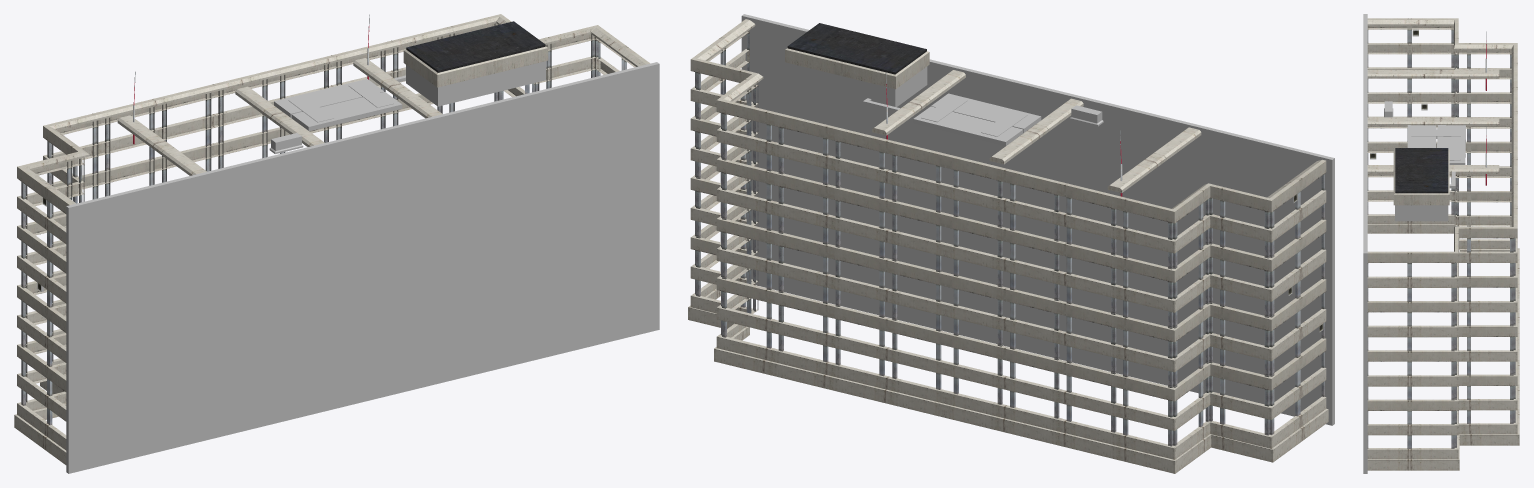
The model's file is u2SWBuild4.gltf.
3 views of the same model, side by side, from view 1: azimuth 30°, elevation 25°; view 2: azimuth 150°, elevation 25°; view 3: azimuth 270°, elevation 25° (orthographic). The views are drawn at different scales.
Visible parts, largest first — view 1: u2SWBuild4; view 2: u2SWBuild4; view 3: u2SWBuild4.
Boxes of the visible parts, x1,y1,x2,y2 form: u2SWBuild4: (14,14,659,473); u2SWBuild4: (688,14,1334,473); u2SWBuild4: (1363,14,1519,473).
Size of the model in its own units: 24.03 by 12.19 by 6.63.
